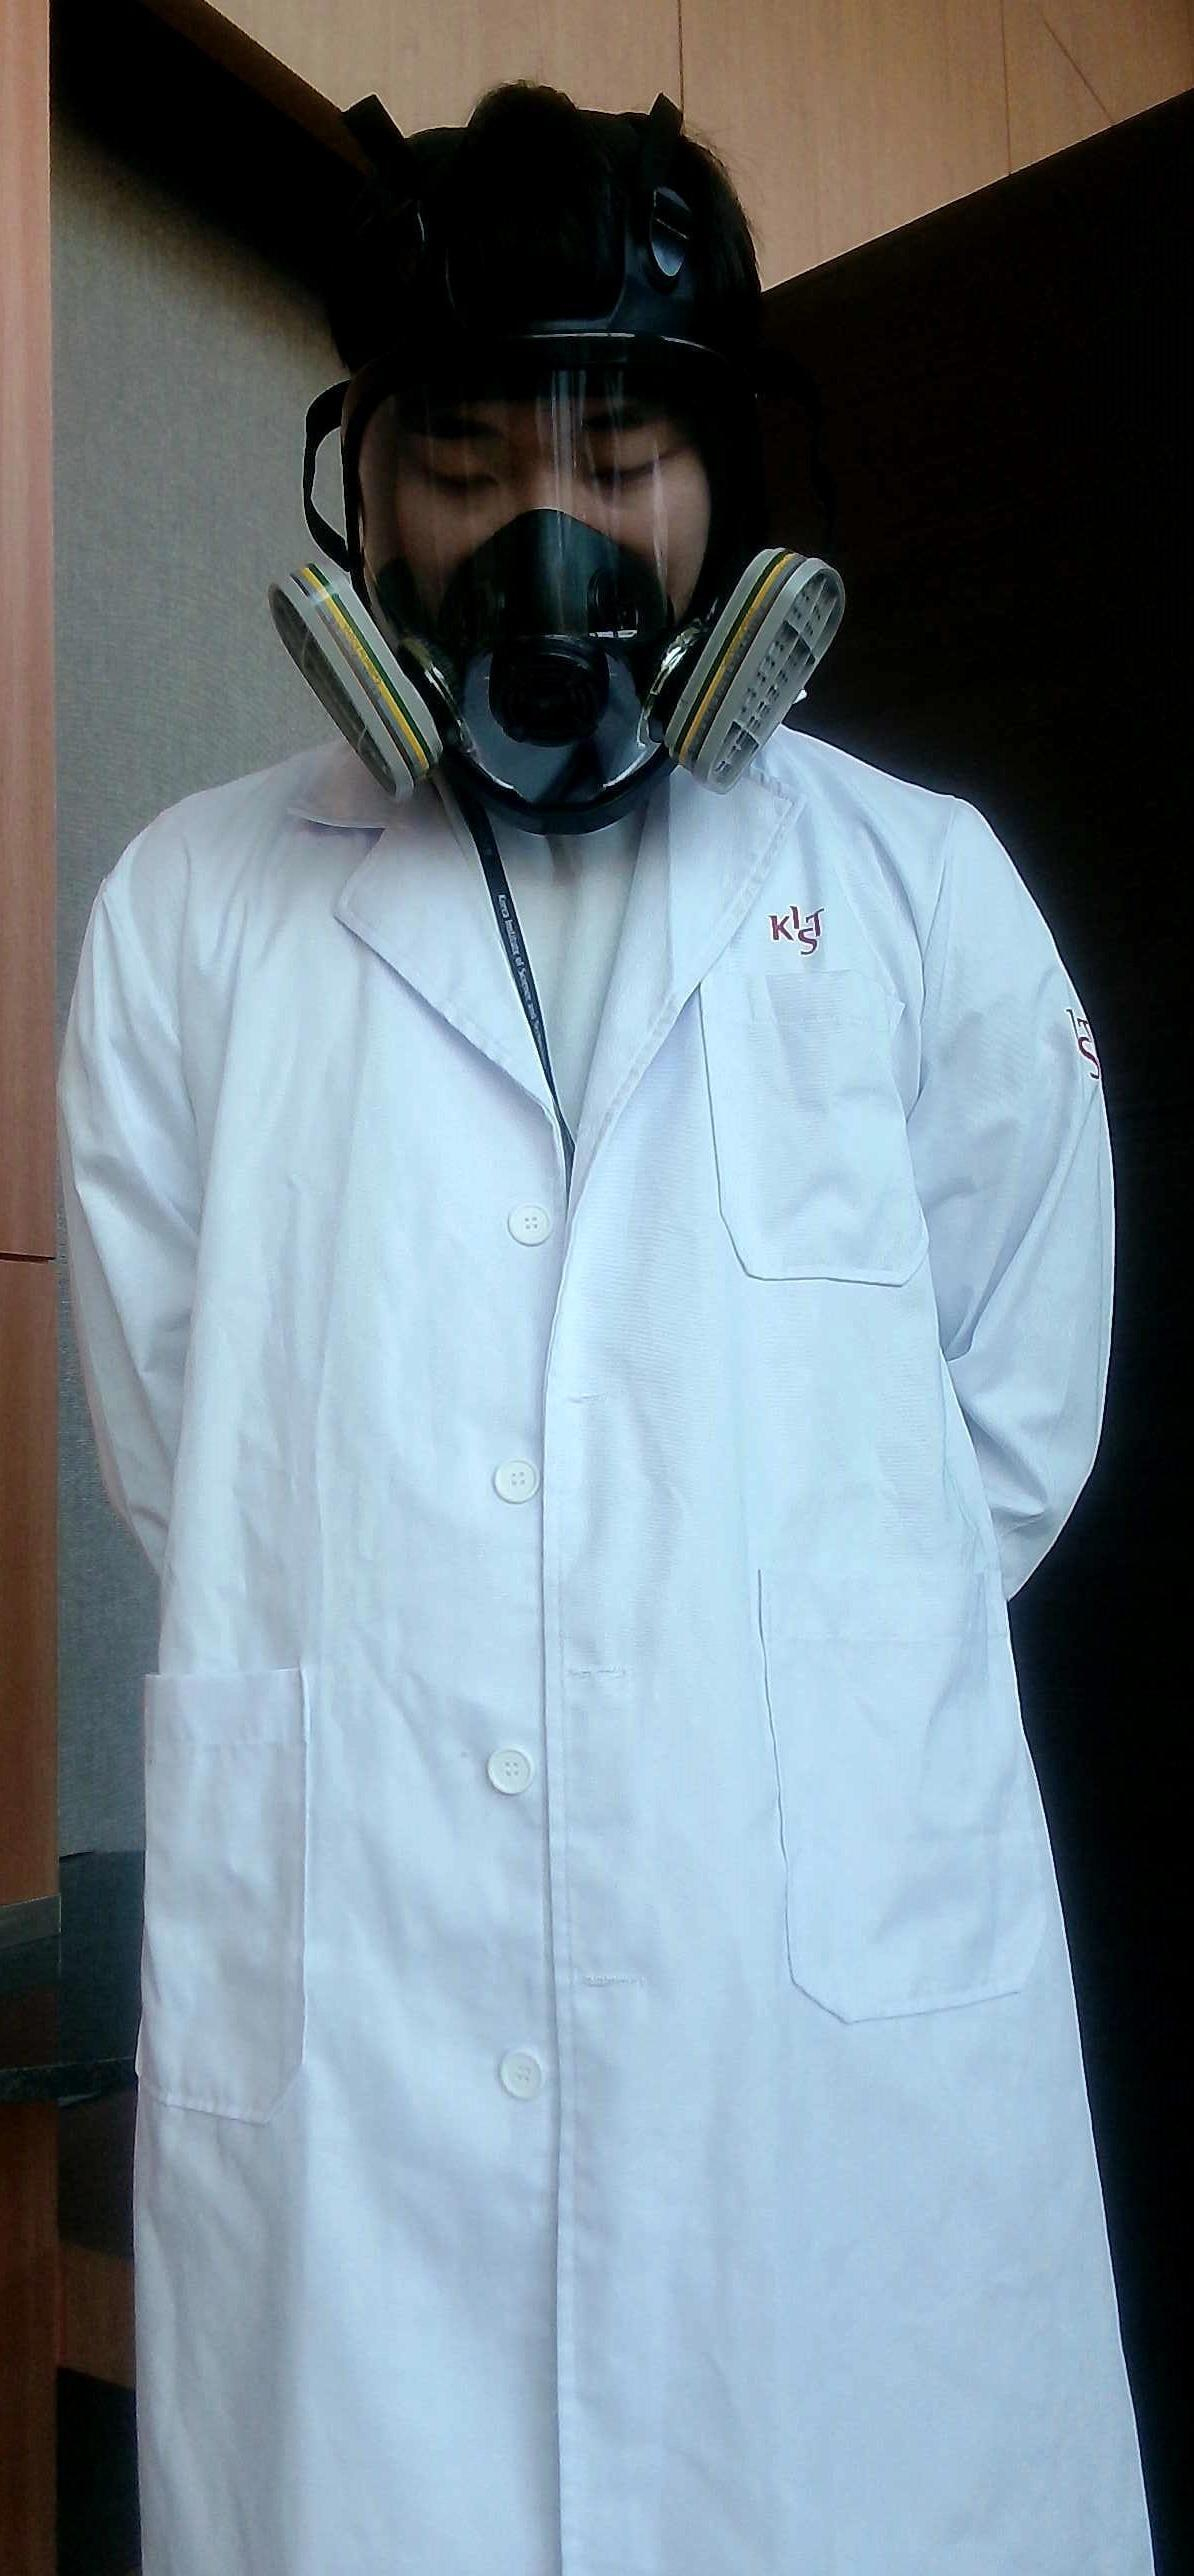lab_coat: (76, 812, 1128, 2576)
